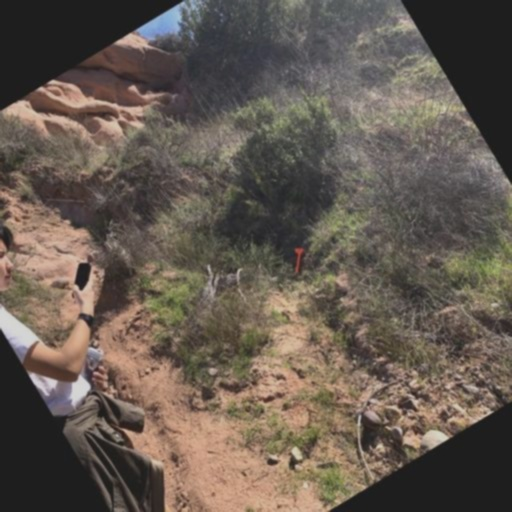bottle: (70, 341, 118, 393)
